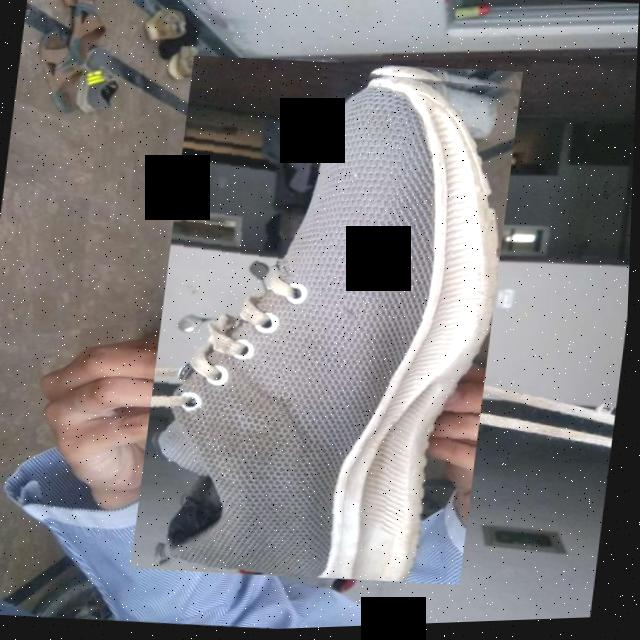shoe: (134, 47, 524, 598)
